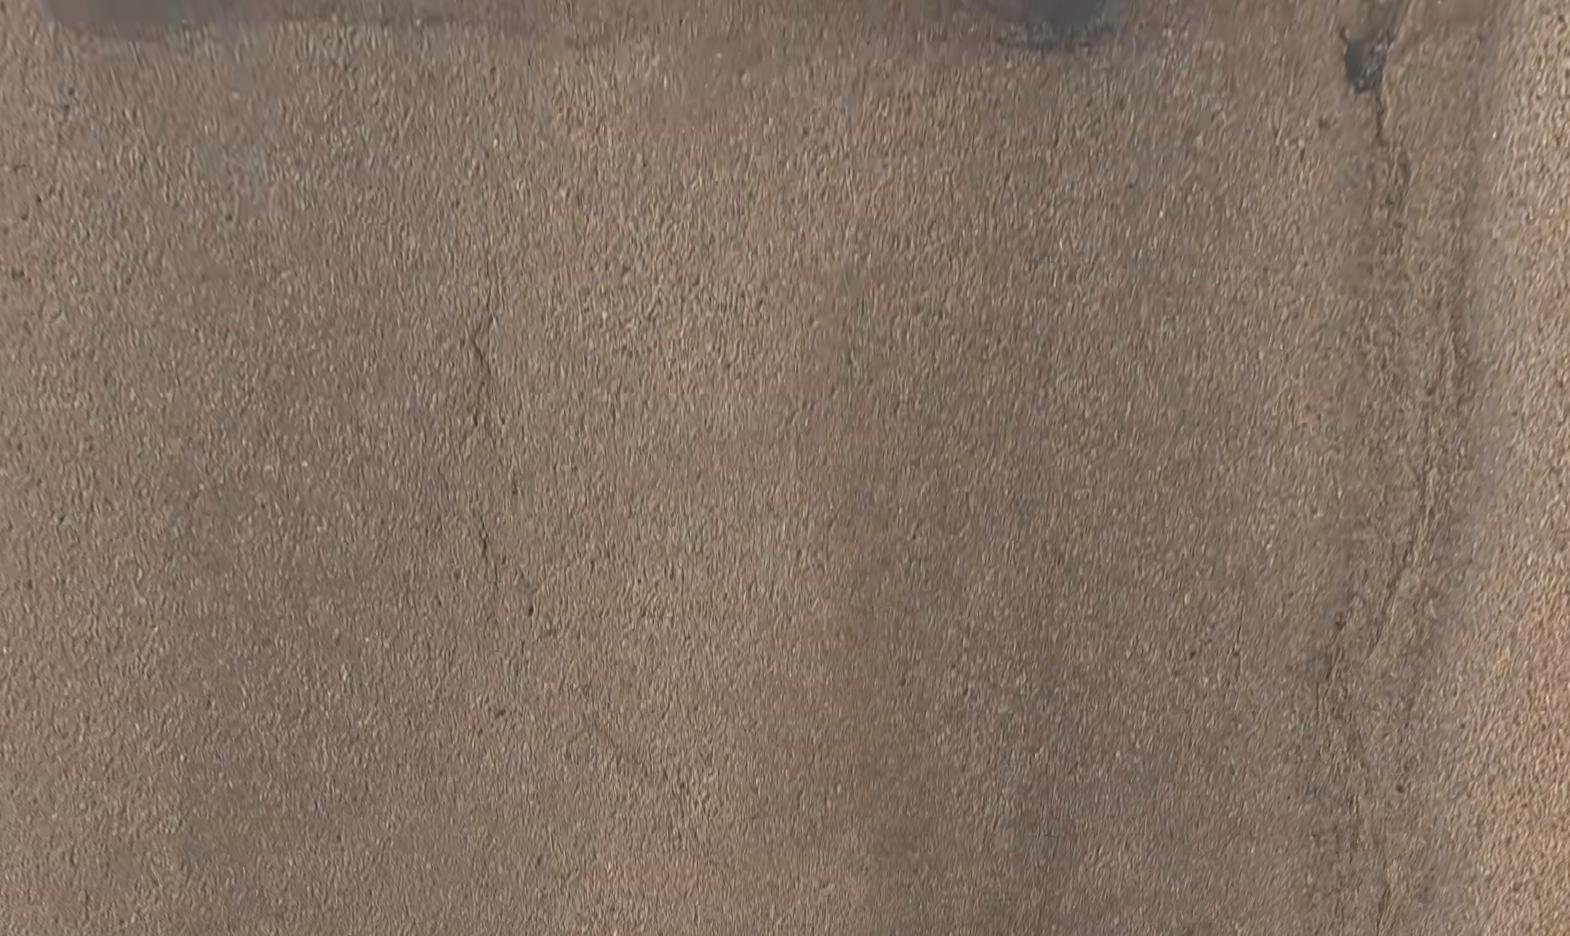pothole_patch_good: (1343, 26, 1389, 91)
